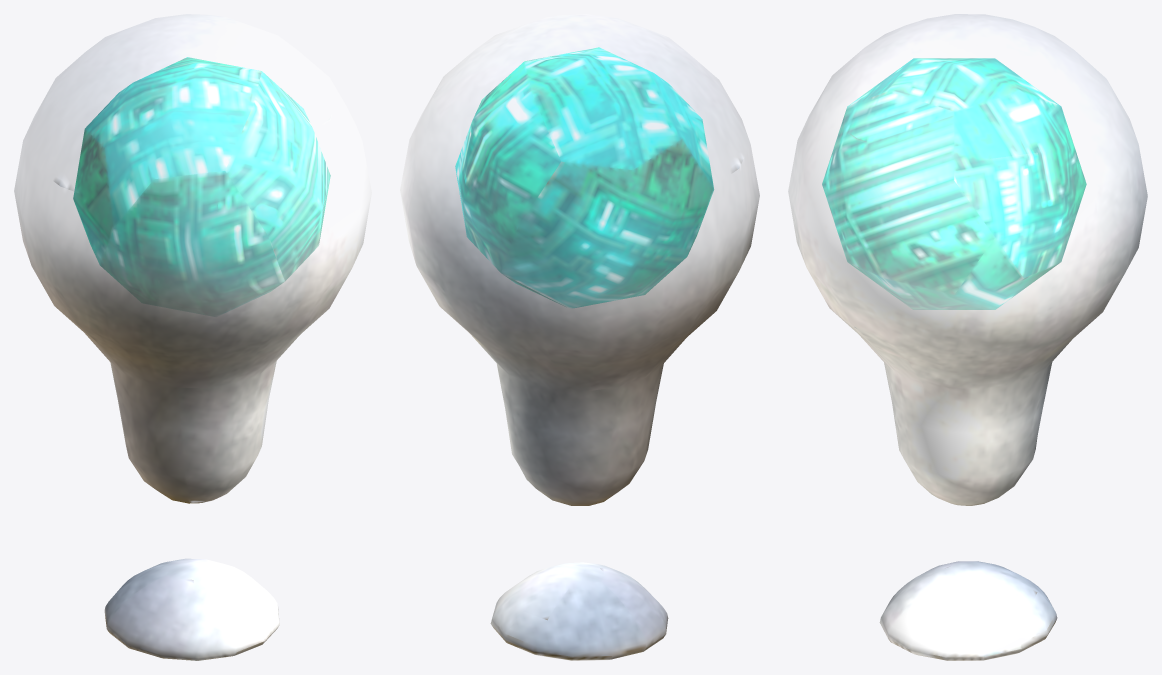
File: FloorBulb.glb
The picture shows the model from 3 angles, left to right: view 1: azimuth 30°, elevation 25°; view 2: azimuth 150°, elevation 25°; view 3: azimuth 270°, elevation 25°; orthographic projection.
Visible parts, largest first — view 1: Retopo_融球.009, 棱角球.017, Retopo_球体.010; view 2: Retopo_融球.009, 棱角球.017, Retopo_球体.010; view 3: Retopo_融球.009, 棱角球.017, Retopo_球体.010.
Boxes of the visible parts, x1,y1,x2,y2 form: Retopo_融球.009: [14, 14, 371, 503]; 棱角球.017: [73, 57, 330, 306]; Retopo_球体.010: [104, 558, 279, 660]; Retopo_融球.009: [400, 14, 759, 505]; 棱角球.017: [455, 47, 714, 308]; Retopo_球体.010: [490, 562, 668, 660]; Retopo_融球.009: [788, 14, 1147, 505]; 棱角球.017: [822, 58, 1086, 309]; Retopo_球体.010: [879, 561, 1057, 660].
Size of what is drawn, in the model's own units: 1.72 by 3.21 by 1.74.
Materials: 2 (2 with a texture image).
